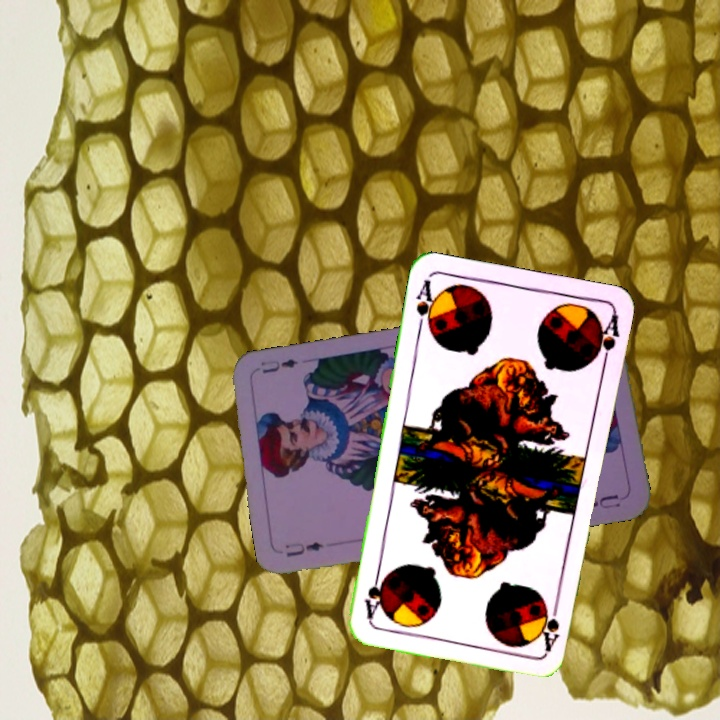EU: (281, 537, 326, 560)
SA: (411, 276, 440, 337), (539, 595, 563, 654)
